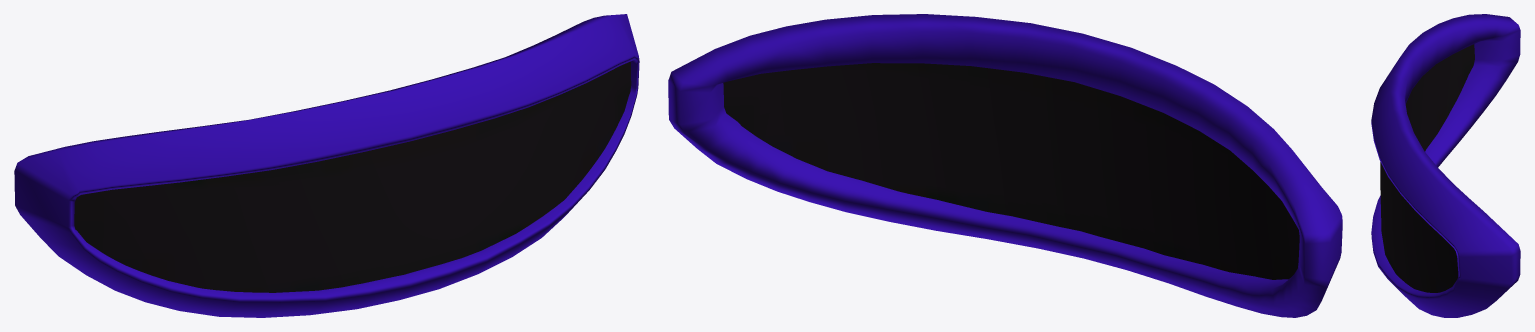
Rendered from AccessoryGlassCyber3.glb.
3 views of the same model, side by side, from view 1: azimuth 30°, elevation 25°; view 2: azimuth 150°, elevation 25°; view 3: azimuth 270°, elevation 25° (orthographic). The views are drawn at different scales.
Visible parts, largest first — view 1: Accessory__mAccessory; view 2: Accessory__mAccessory; view 3: Accessory__mAccessory.
Part boxes in pixels (box(x1,y1,x2,y2)): Accessory__mAccessory: box(14, 14, 639, 317); Accessory__mAccessory: box(668, 14, 1342, 317); Accessory__mAccessory: box(1371, 14, 1520, 317).
Bounding box in the file's own units: 6.63 × 2.16 × 1.79.
1 material, 1 textured.
